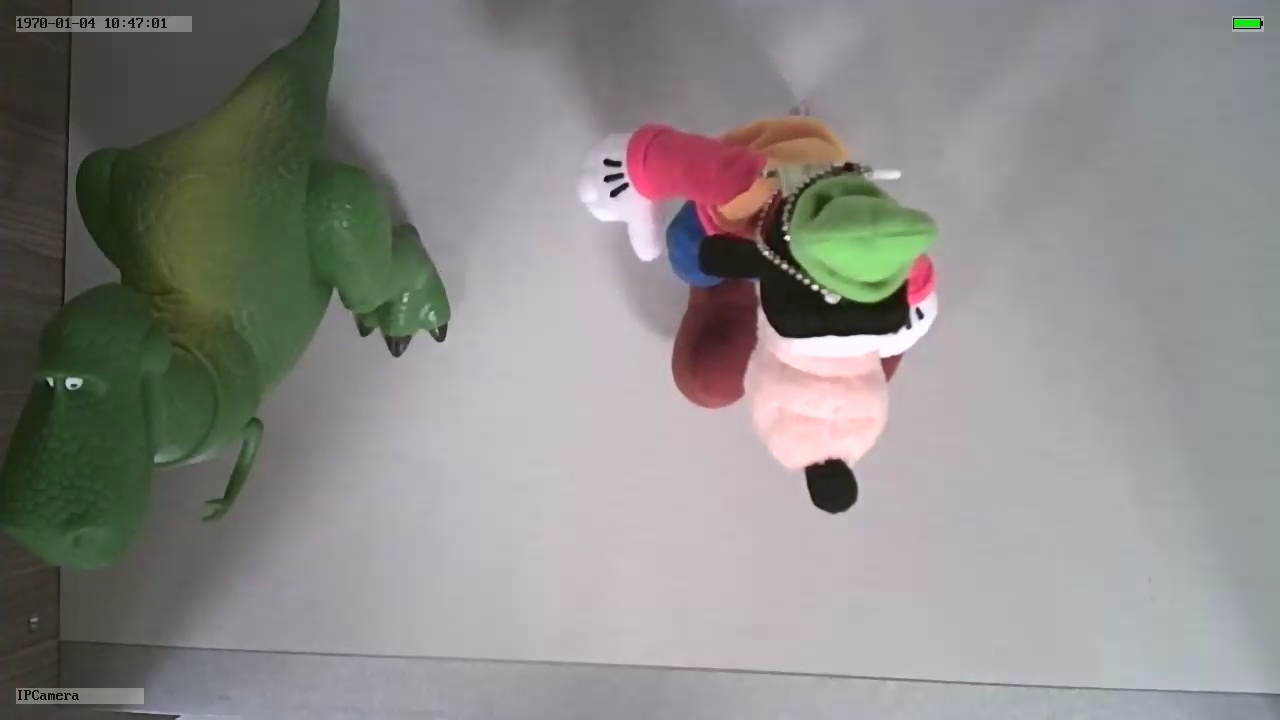goofy: (578, 108, 942, 513)
rex: (1, 74, 451, 573)
